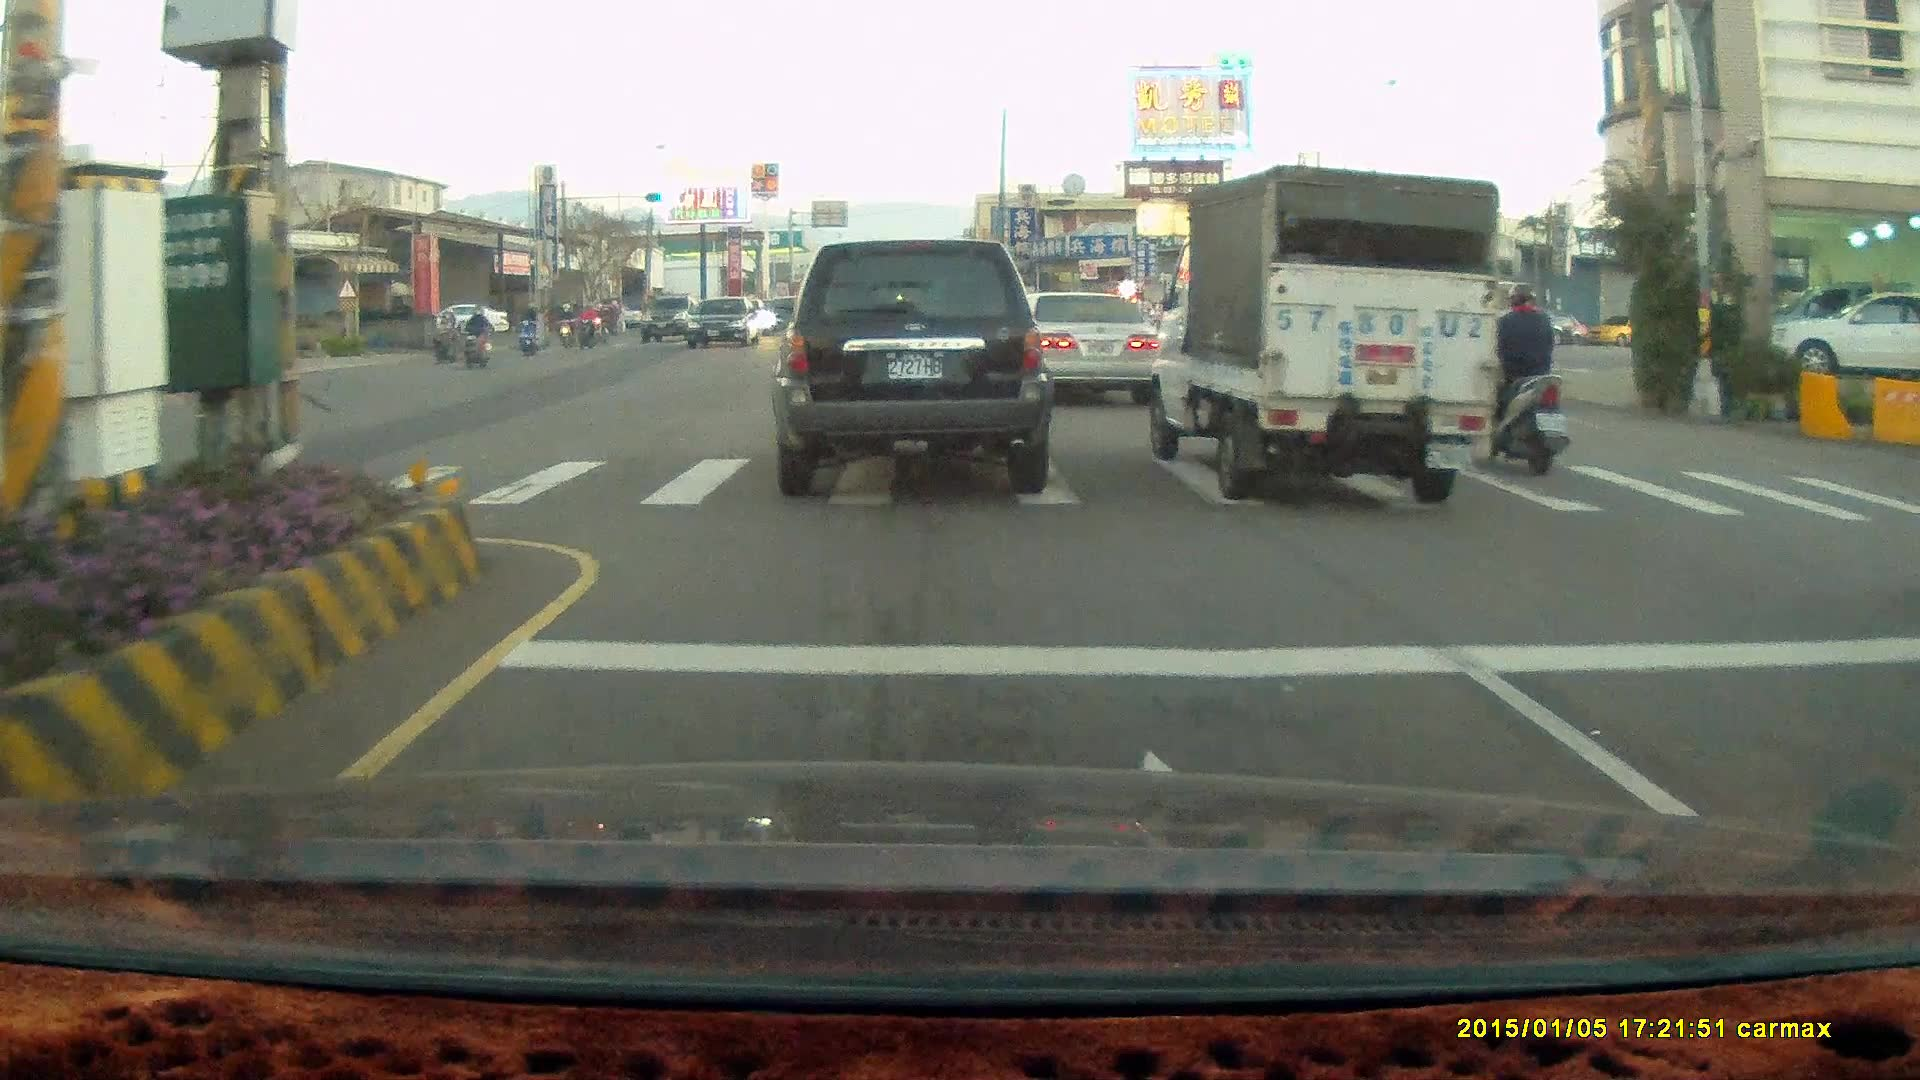rider: (1454, 281, 1573, 481), (428, 302, 463, 360), (463, 309, 493, 362), (516, 297, 542, 354), (575, 296, 603, 347), (551, 297, 577, 344)
vehicle: (1145, 160, 1500, 502), (770, 235, 1055, 497), (1000, 288, 1157, 402), (1026, 290, 1161, 410), (1768, 285, 1920, 380), (1777, 286, 1920, 381), (50, 314, 150, 395), (686, 295, 763, 351), (436, 302, 511, 340)
